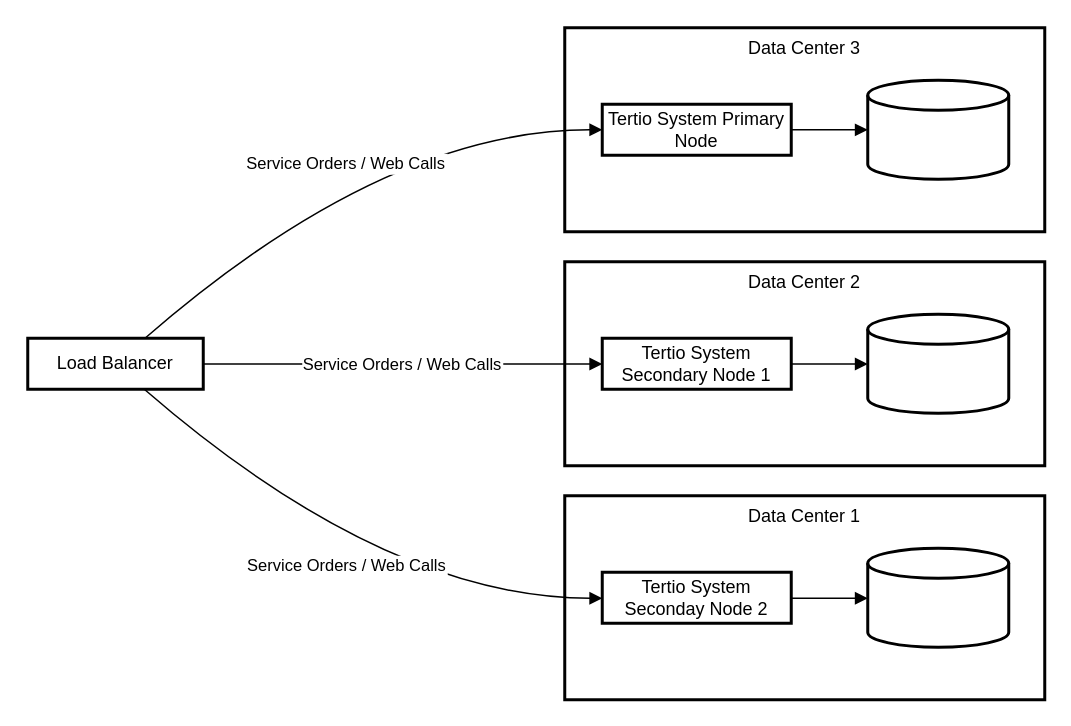
The diagram is 1071 pixels wide and 726 high, and some of its shapes have lost their labels. The shapes that lost their labels are listed below. From the top down, each one's centre as x and y in pixels, then its label:
At point (938, 129): "Database 3".
At point (938, 363): "Database 2".
At point (938, 597): "Database 1".
